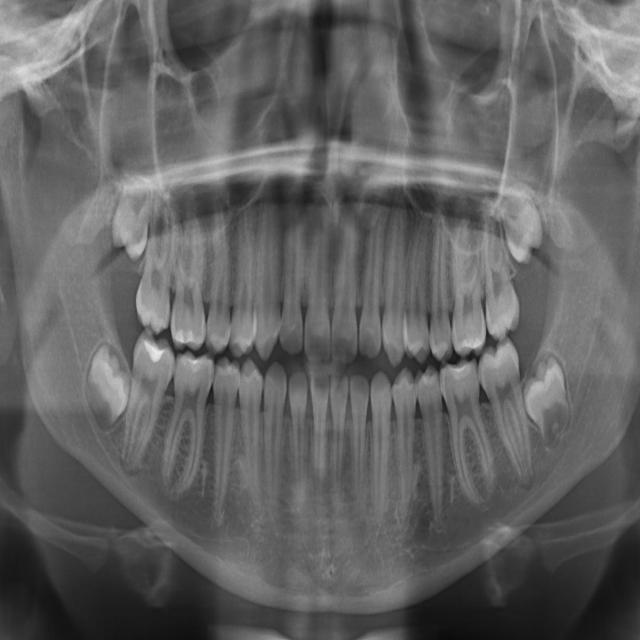3M ESPE Implant: (104, 165, 160, 271)
AGS Medikal Implant: (358, 187, 390, 362)
AMerOss Implant: (380, 168, 408, 368)
Amalgam filling: (403, 206, 432, 366)
Anthogyr Implant: (425, 195, 454, 360)
Bicon Implant: (447, 210, 488, 357)
BioHorizons Implant: (480, 197, 523, 340)
BioLife Implant: (498, 181, 550, 271)
Biomet 3i Implant: (518, 346, 581, 458)
Blue Sky Bio Implant: (473, 335, 547, 497)
Camlog Implant: (437, 355, 504, 521)
Caries: (131, 184, 178, 336)
Composite filling: (414, 361, 457, 540)
Cowellmedi Implant: (391, 363, 422, 529)
Crown: (369, 368, 393, 539)
DENTSPLY Implant: (349, 373, 375, 528)
Dentatus Implant: (326, 374, 349, 521)
Dentis Implant: (308, 373, 332, 510)
Dentium Implant: (286, 371, 307, 512)
Euroteknika Implant: (255, 362, 289, 525)
Filling: (236, 354, 271, 513)
Frontier Implant: (212, 357, 237, 530)
Hiossen Implant: (168, 201, 211, 352)
Implant: (115, 330, 180, 480)
Implant Direct: (168, 426, 195, 500)
Keystone Dental Implant: (76, 336, 136, 440)
MIS Implant: (204, 177, 238, 356)
Mandible: (227, 188, 265, 360)
Maxilla: (255, 149, 283, 363)
Megagen Implant: (279, 185, 308, 356)
Neodent Implant: (303, 188, 334, 362)
Neoss Implant: (332, 192, 358, 365)
